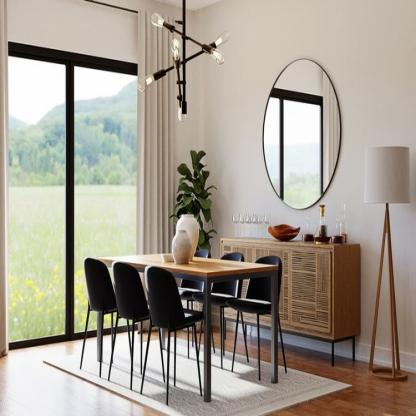Dining Table: (77, 240, 290, 414)
Wooden floor: (267, 364, 416, 416)
